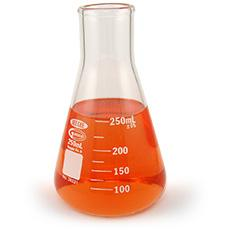Titrarion: (39, 4, 172, 219)
